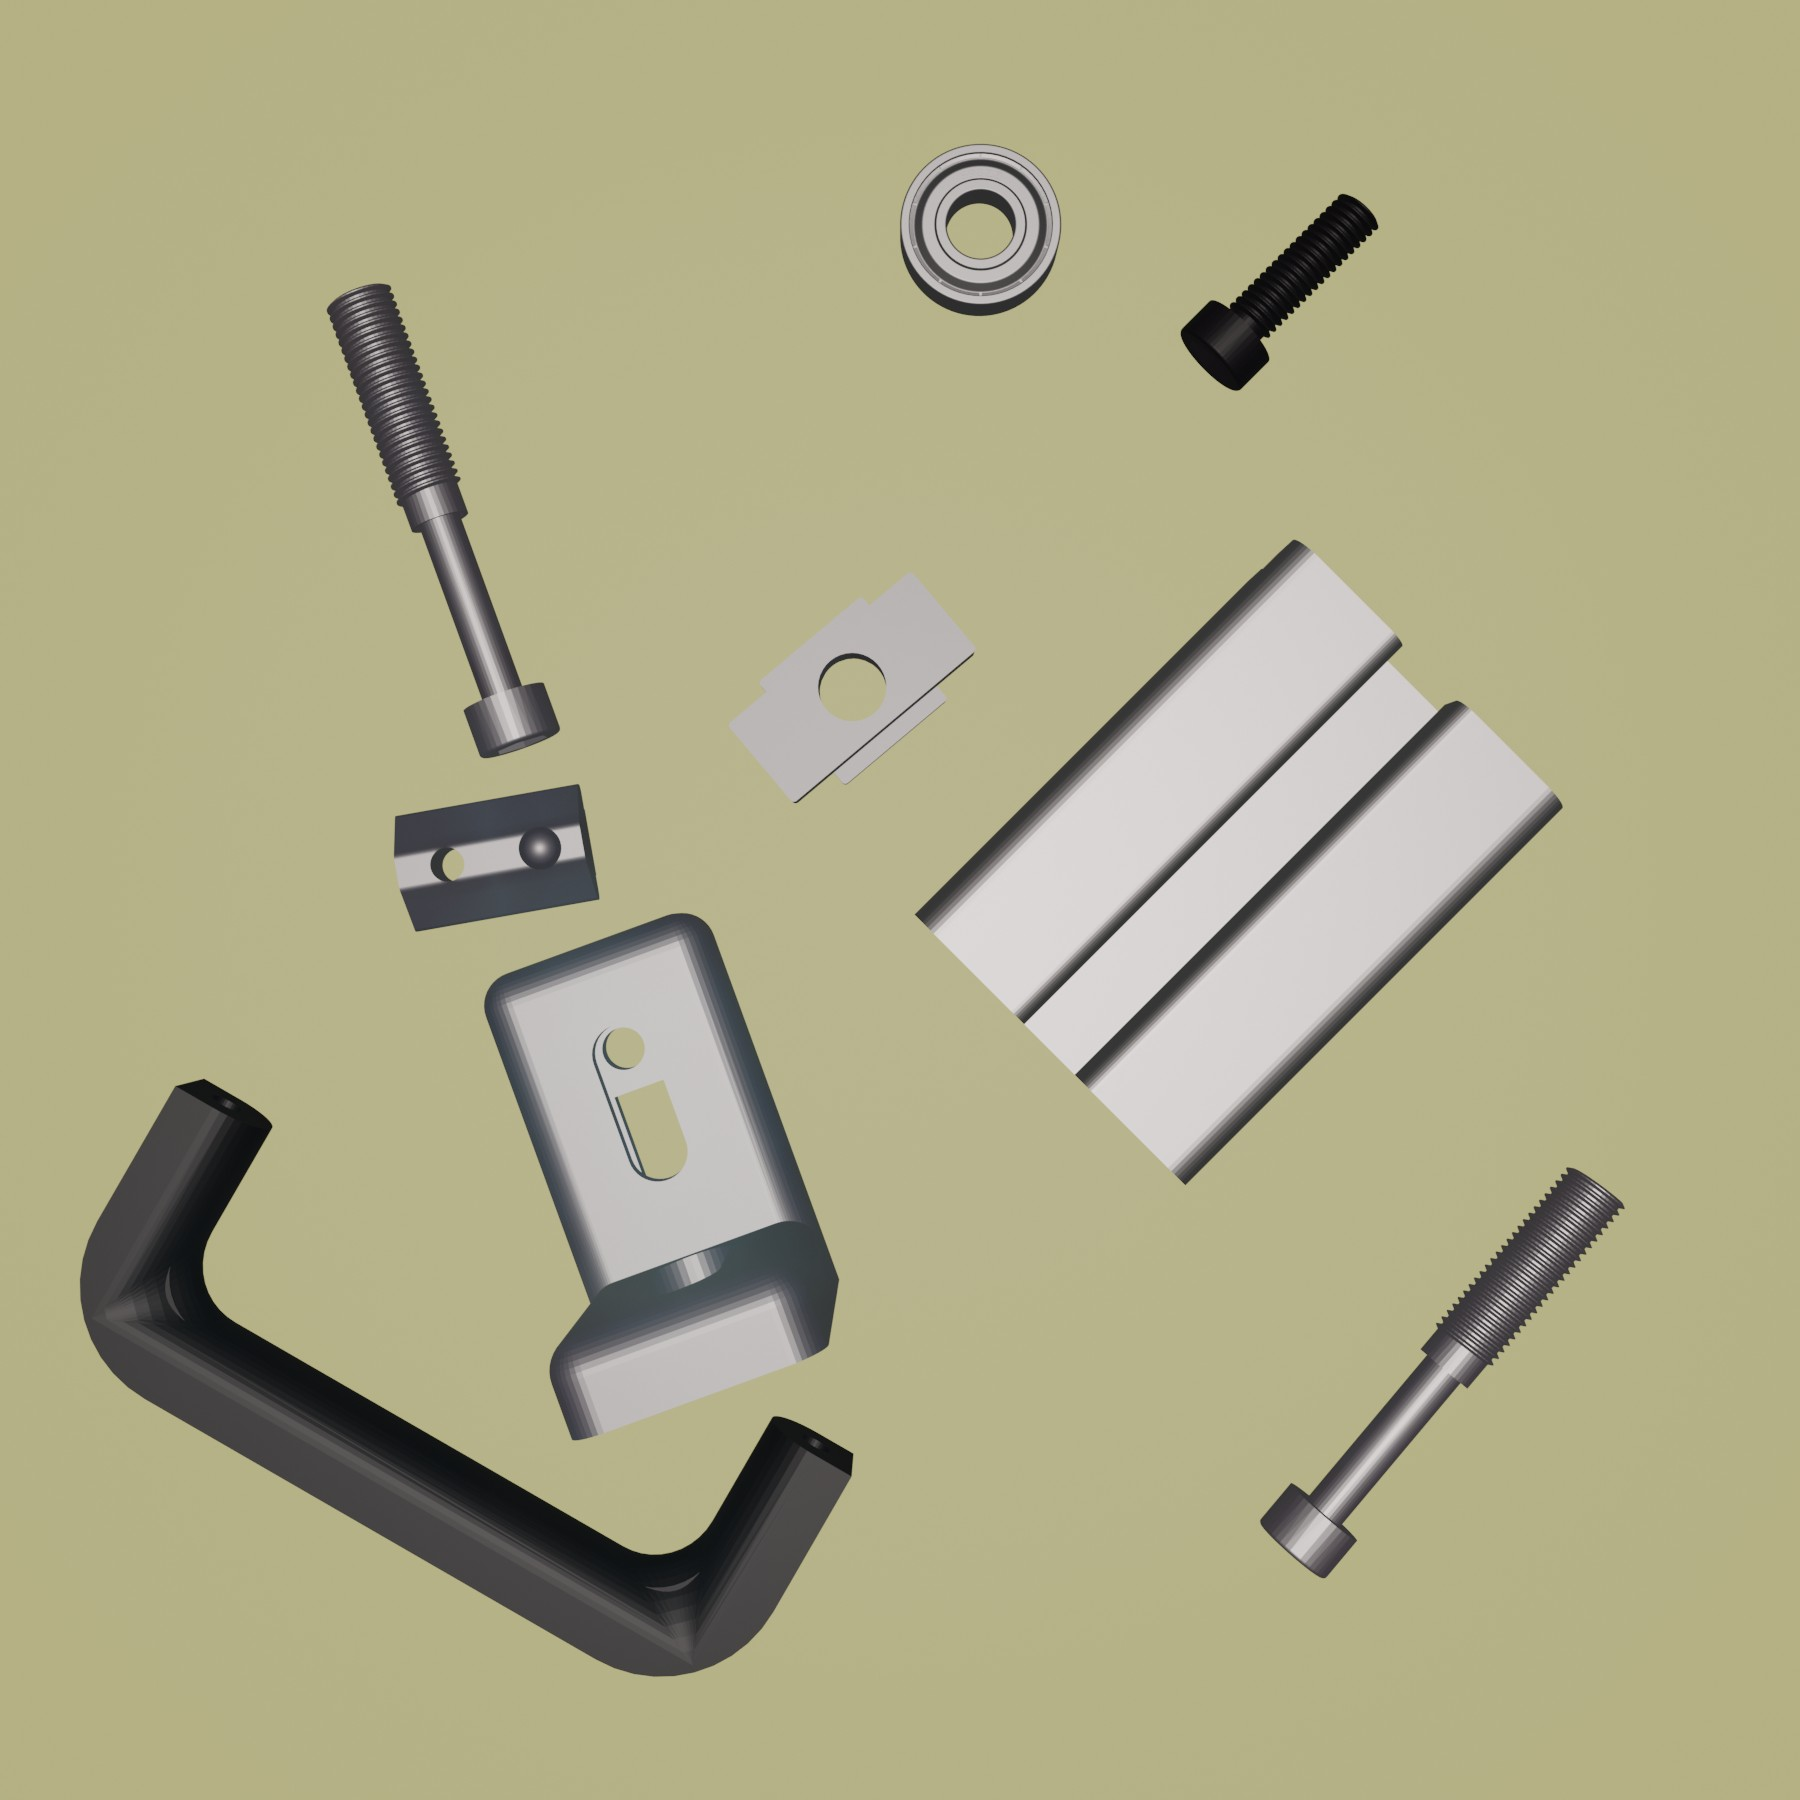Aluminium Extension: (912, 537, 1566, 1185)
Ball Bearing: (897, 138, 1065, 320)
Multiwinkel: (481, 908, 842, 1446)
Pull Handle: (79, 1075, 854, 1678)
Shoulder Socket Head Cap Screw: (1256, 1164, 1629, 1584), (325, 280, 562, 762)
Socket Head Cap Screw: (1179, 190, 1381, 392)
T Nut Square: (724, 564, 977, 811)
T Spring Nut: (392, 781, 607, 935)
